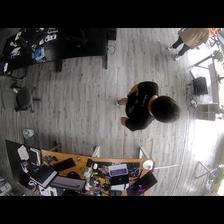normal: (116, 80, 180, 132)
